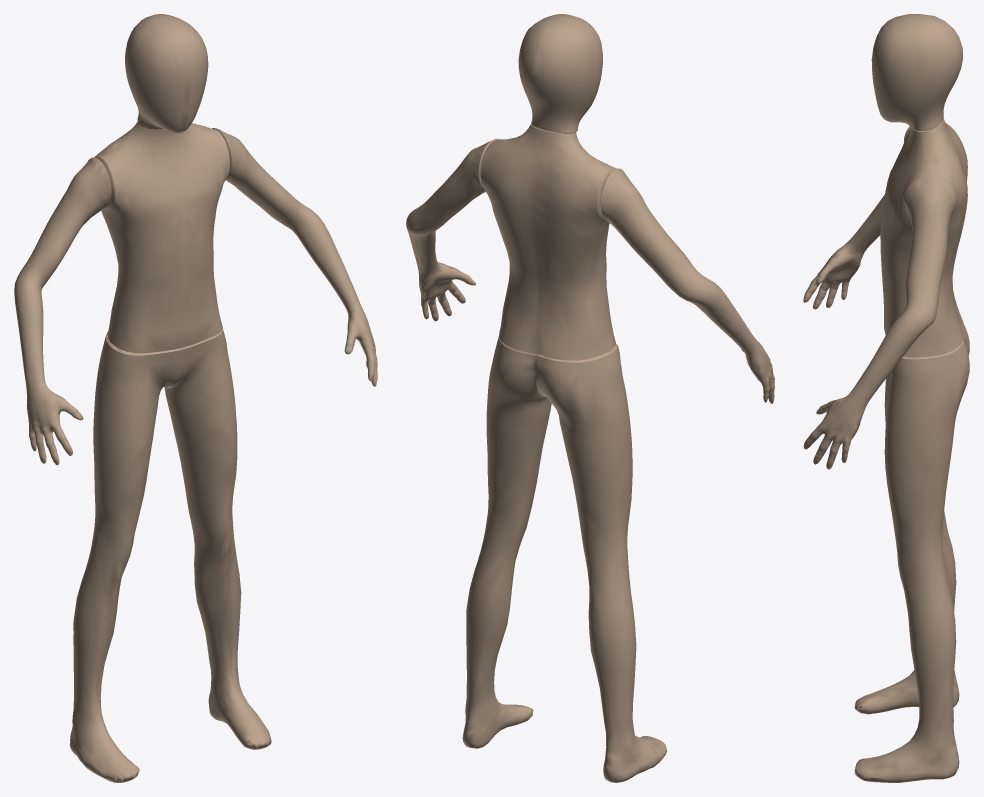
Rendered from Mannequin_Pose_standing.fbx.
3 views of the same model, side by side, from view 1: azimuth 30°, elevation 25°; view 2: azimuth 150°, elevation 25°; view 3: azimuth 270°, elevation 25° (orthographic).
Visible parts, largest first — view 1: Mannequin_Standing; view 2: Mannequin_Standing; view 3: Mannequin_Standing.
Boxes of the visible parts, bbox=[...] form: Mannequin_Standing: bbox=[14, 14, 377, 782]; Mannequin_Standing: bbox=[406, 14, 774, 782]; Mannequin_Standing: bbox=[803, 14, 969, 782].
Bounding box in the file's own units: 115 × 231 × 48.08.
